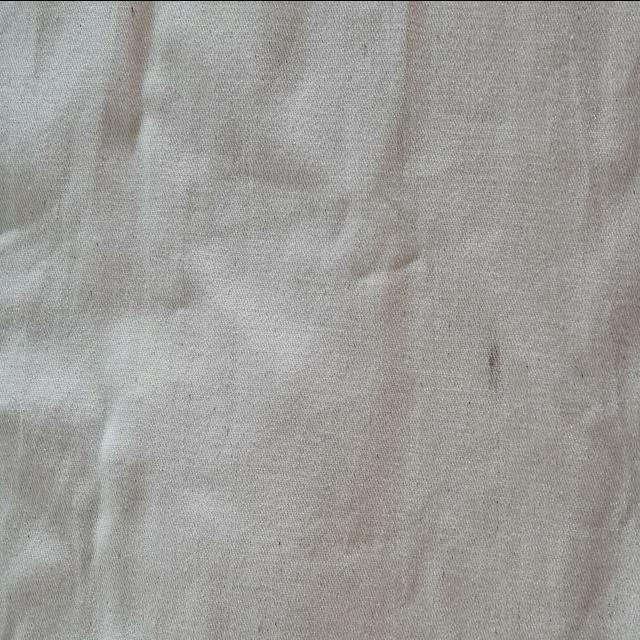taaaches: (468, 298, 512, 418)
